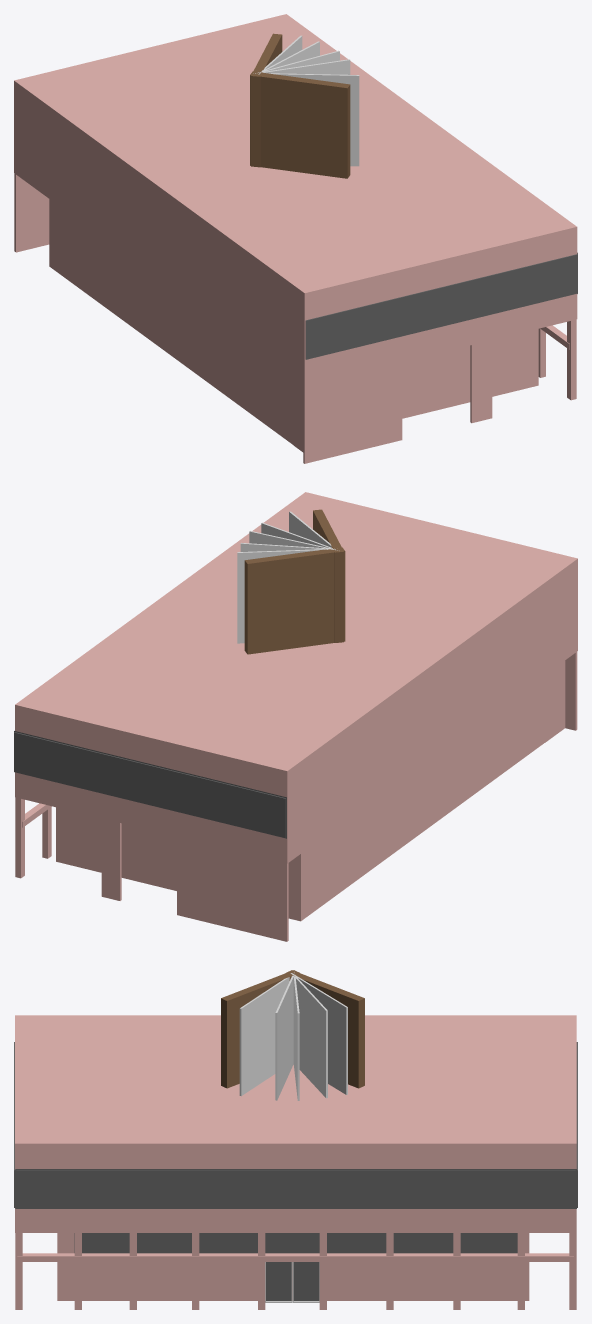
Rendered from 圖書館.fbx.
3 views of the same model, one above another, from view 1: azimuth 30°, elevation 25°; view 2: azimuth 150°, elevation 25°; view 3: azimuth 270°, elevation 25° (orthographic). The views are drawn at different scales.
Parts seen in each view (by area): view 1: 立方體.016, 立方體.004, 立方體.002, 立方體.021, 立方體.027, 立方體.026, 立方體.005; view 2: 立方體.016, 立方體.004, 立方體.003, 立方體.021, 立方體.023, 立方體.014, 立方體.025; view 3: 立方體.016, 立方體.001, 立方體.004, 立方體.017, 立方體.015, 立方體.021, 立方體.027, 立方體.024, 立方體.023, 立方體.026, 立方體.020, 立方體.019 (+11 smaller).
Boxes of the visible parts, x1,y1,x2,y2 form: 立方體.016: (14, 14, 577, 463); 立方體.004: (49, 199, 538, 452); 立方體.002: (305, 252, 577, 359); 立方體.021: (250, 33, 350, 178); 立方體.027: (269, 73, 359, 166); 立方體.026: (262, 59, 350, 74); 立方體.005: (567, 319, 576, 400); 立方體.016: (15, 492, 577, 941); 立方體.004: (56, 660, 565, 921); 立方體.003: (14, 731, 286, 838); 立方體.021: (244, 509, 345, 654); 立方體.023: (237, 548, 334, 643); 立方體.014: (15, 797, 24, 878); 立方體.025: (249, 531, 339, 550); 立方體.016: (15, 1015, 576, 1232); 立方體.001: (15, 1169, 576, 1208); 立方體.004: (57, 1233, 529, 1300); 立方體.017: (74, 1233, 517, 1253); 立方體.015: (17, 1253, 573, 1261); 立方體.021: (221, 970, 364, 1088); 立方體.027: (239, 977, 289, 1096); 立方體.024: (295, 977, 327, 1098); 立方體.023: (290, 973, 347, 1094); 立方體.026: (275, 975, 293, 1100); 立方體.020: (293, 1262, 319, 1300); 立方體.019: (266, 1262, 291, 1300).
Size of the model in its own units: 2858 by 2623 by 5280.
